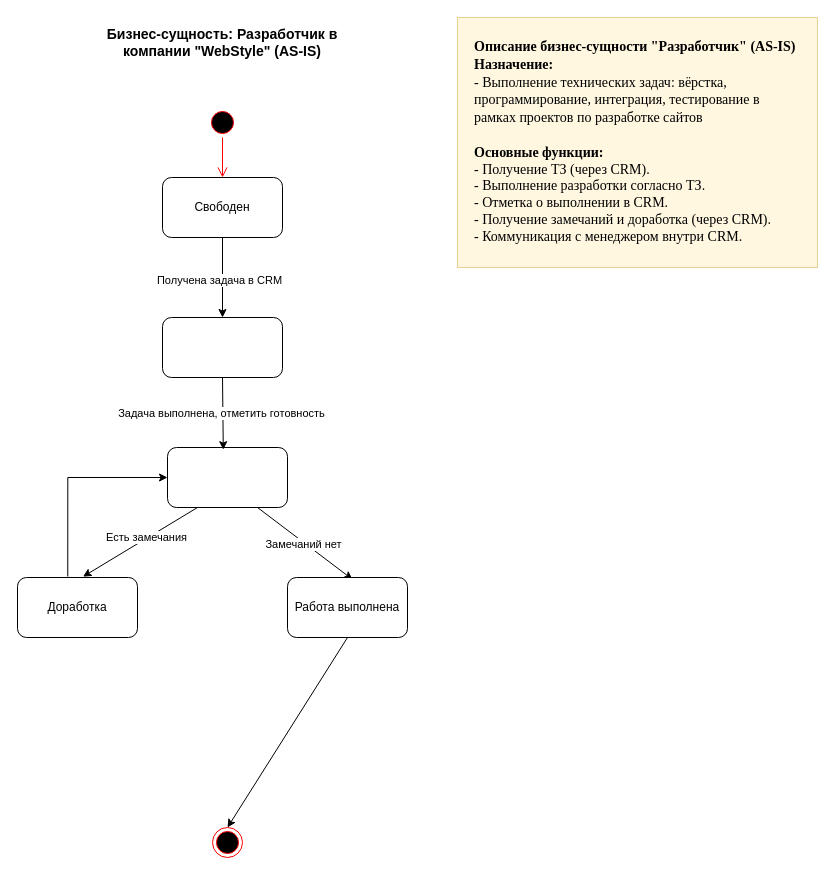
Some shapes in this 835 by 875 pixel diagram are drawn without their labels. The box of each missing label's shape, as (x1, y1, x2, y2) in pixels:
В работе: (162, 316, 282, 378)
На проверке: (166, 446, 288, 508)
